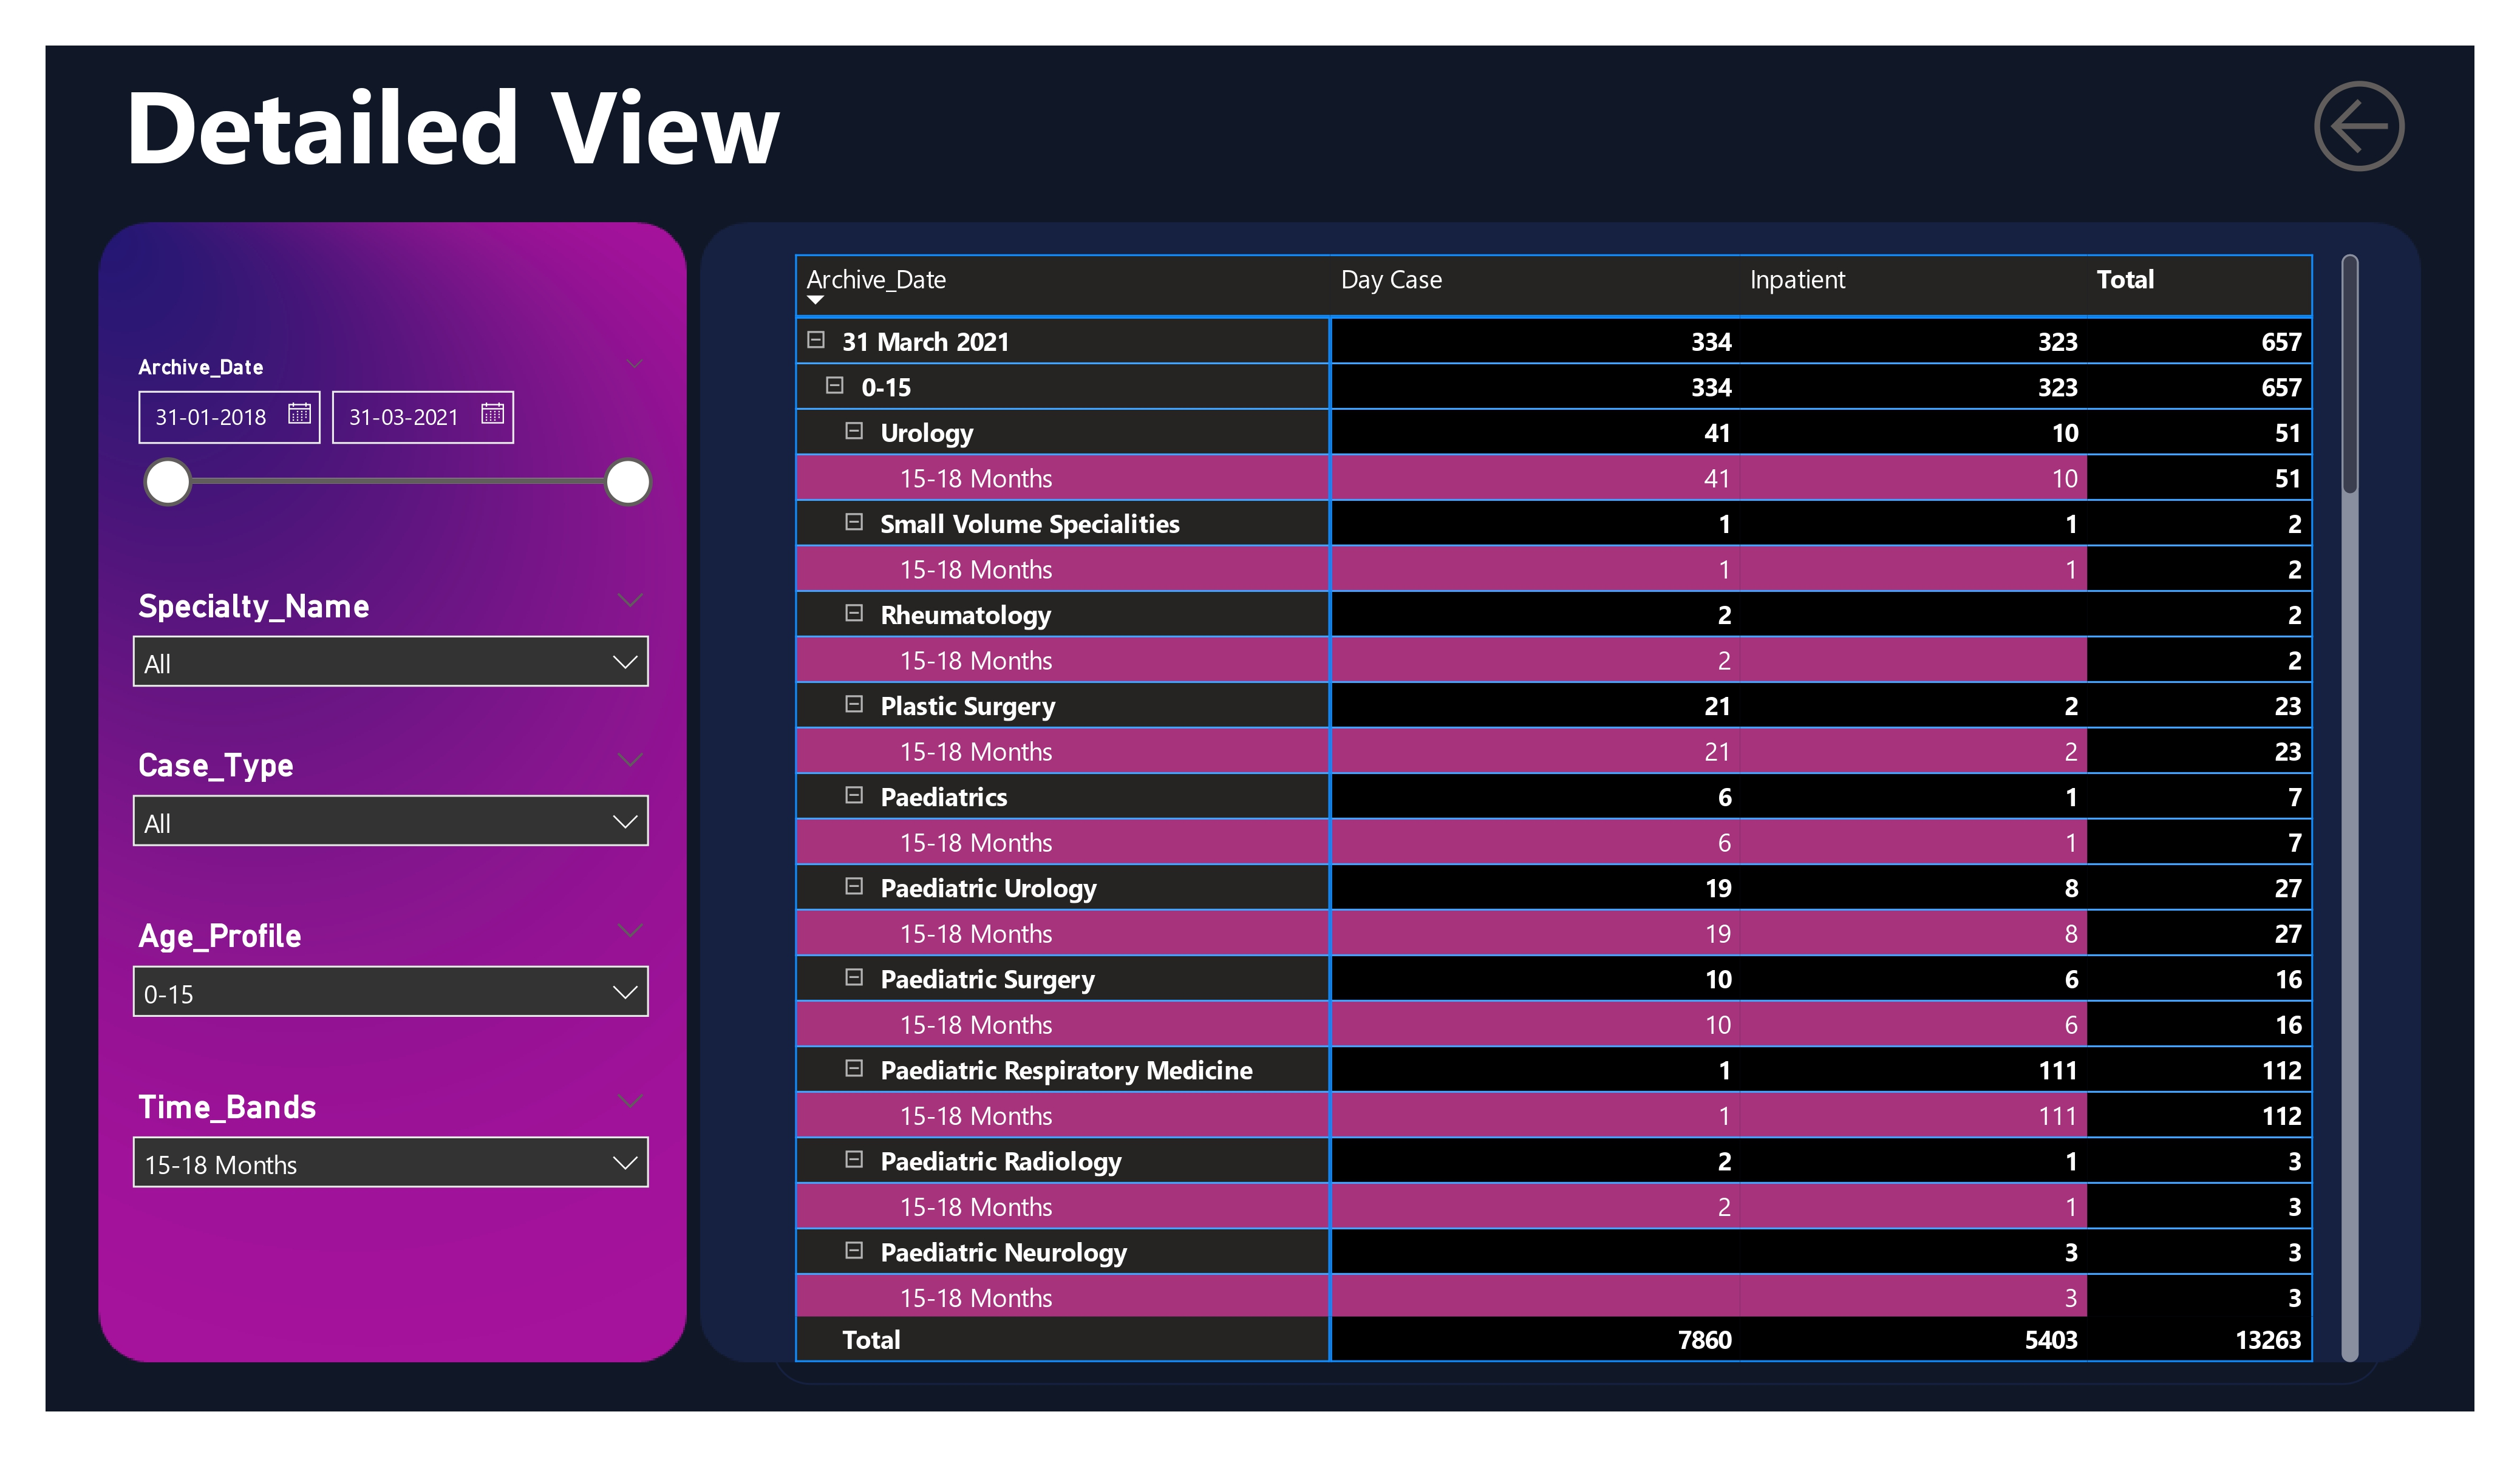

The page's visual inventory and layout, read from the dashboard file:
{"tool":"powerbi","page":{"name":"Detail view","canvas":[1280,720],"ordinal":1},"visuals":[{"type":"slicer","fields":{"Values":["All_Data.Archive_Date"]},"box":[36,158.4,292.3,112.3],"z":0},{"type":"slicer","fields":{"Values":["All_Data.Case_Type"]},"box":[36,364.3,292.3,80.6],"z":1000},{"type":"slicer","fields":{"Values":["All_Data.Specialty_Name"]},"box":[36,280.1,292.3,74.9],"z":2000},{"type":"pivotTable","fields":{"Rows":["All_Data.Archive_Date","All_Data.Age_Profile","All_Data.Specialty_Name","All_Data.Time_Bands"],"Columns":["All_Data.Case_Type"],"Values":["Sum(All_Data.Total)"]},"box":[383,97.9,848.2,607.7],"z":3000},{"type":"textbox","box":[36,0,368.6,85],"z":4000},{"type":"slicer","fields":{"Values":["All_Data.Age_Profile"]},"box":[36,454.3,292.3,80.6],"z":5000},{"type":"slicer","fields":{"Values":["All_Data.Time_Bands"]},"box":[36,544.3,292.3,80.6],"z":6000},{"type":"actionButton","box":[1189.4,11.5,63.4,61.9],"z":7000}]}

Visuals, with their boxes in screenshot pixels (x1, y1, x2, y2):
slicer - All_Data.Archive_Date: detection(114, 346, 669, 559)
slicer - All_Data.Case_Type: detection(114, 736, 669, 889)
slicer - All_Data.Specialty_Name: detection(114, 577, 669, 719)
pivotTable - All_Data.Archive_Date x All_Data.Age_Profile: detection(772, 231, 2382, 1384)
textbox: detection(114, 46, 813, 207)
slicer - All_Data.Age_Profile: detection(114, 908, 669, 1061)
slicer - All_Data.Time_Bands: detection(114, 1078, 669, 1231)
actionButton: detection(2303, 67, 2423, 185)
